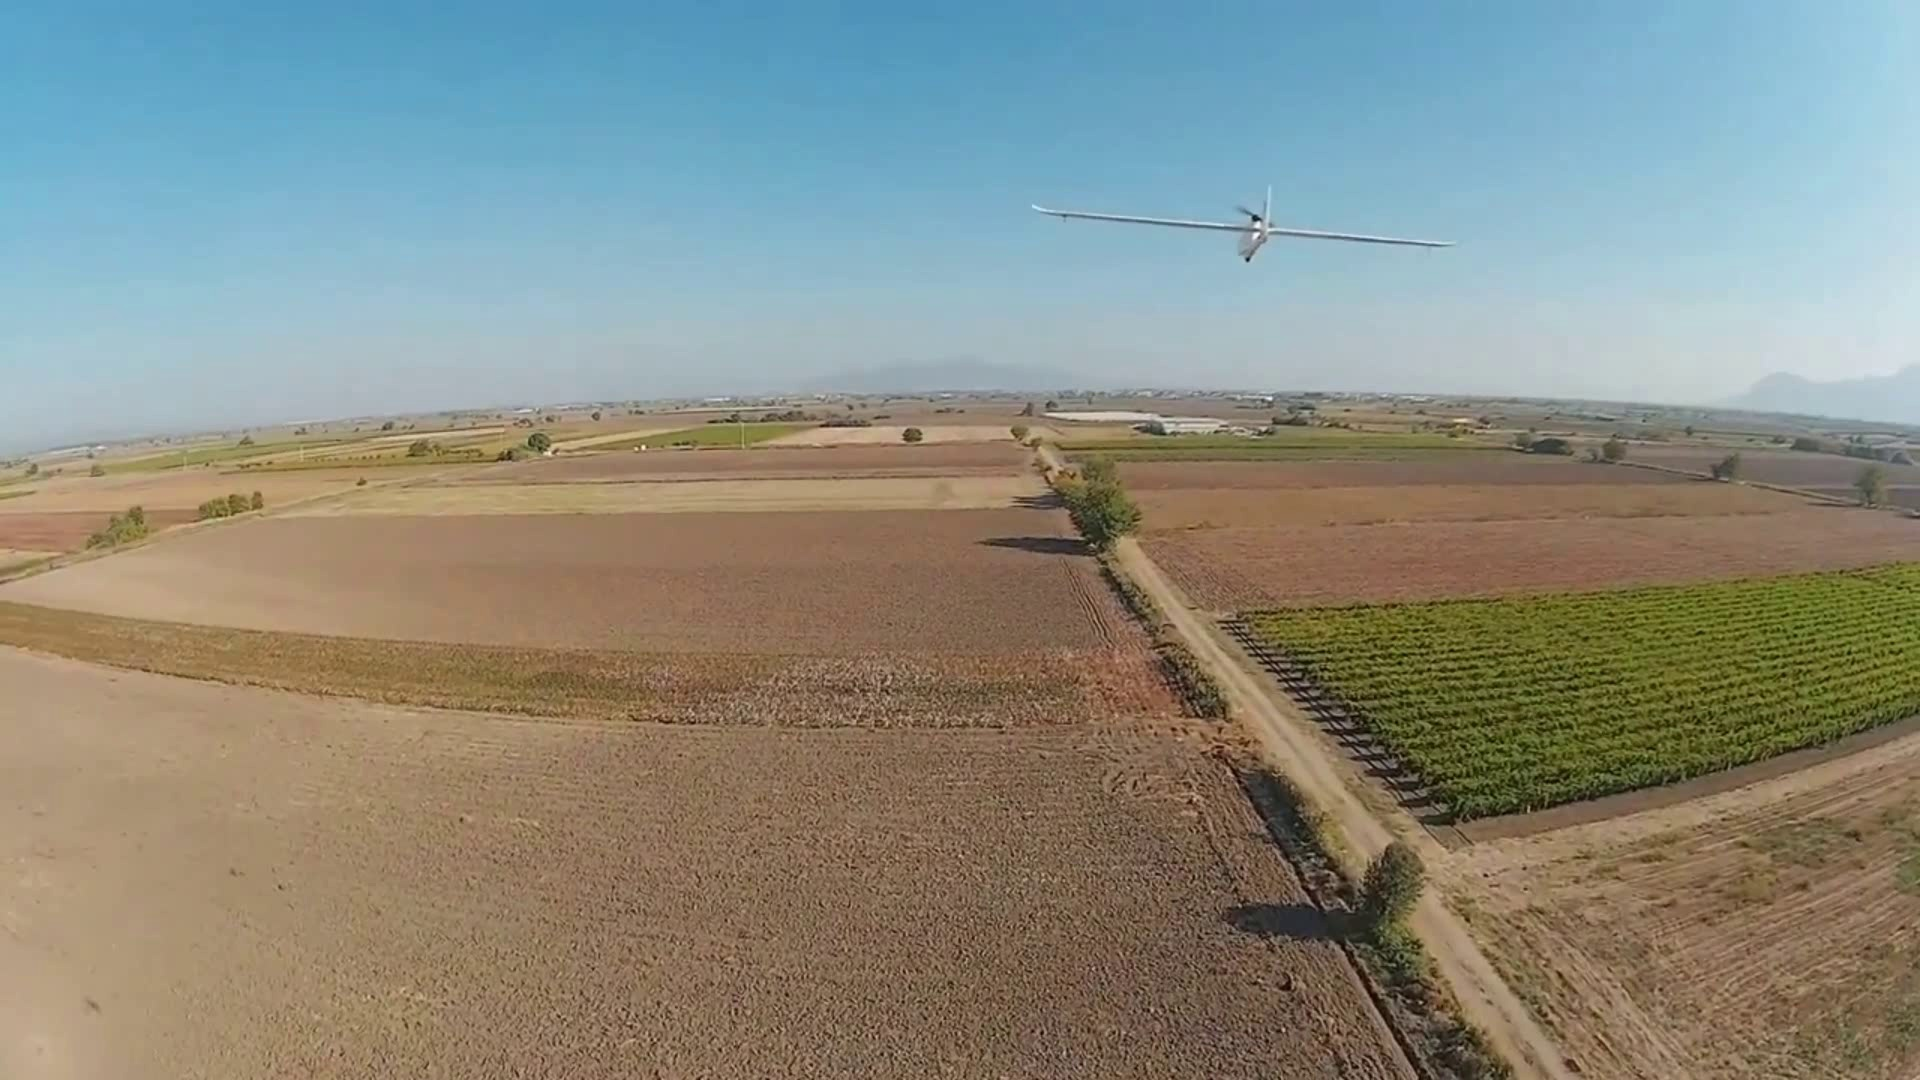airplane: (1034, 185, 1452, 266)
